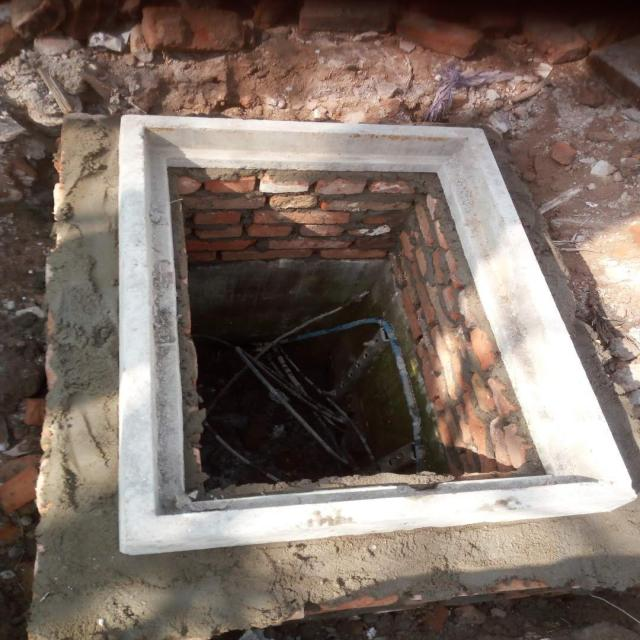Uncovered: (118, 112, 640, 554)
